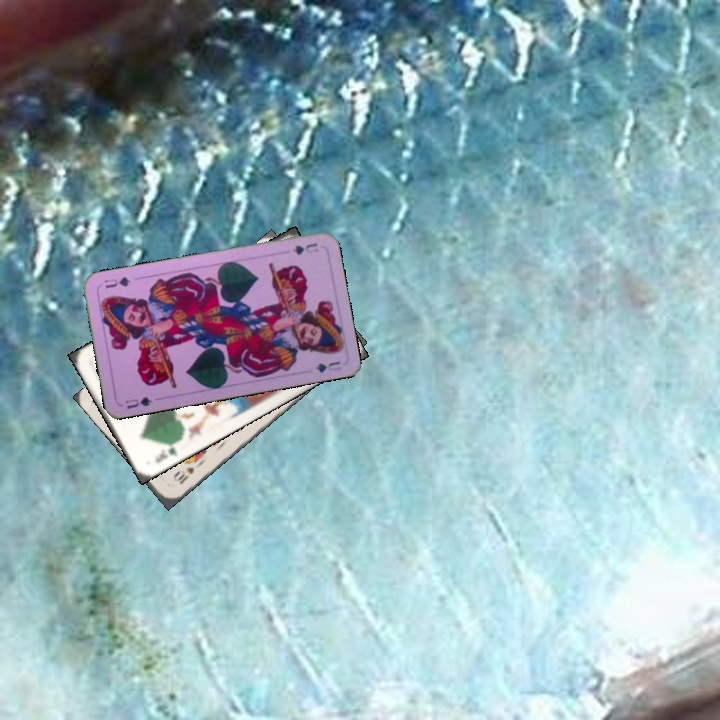GK: (151, 437, 181, 465)
GU: (288, 239, 321, 257), (122, 393, 154, 411)
S10: (170, 463, 197, 487)
